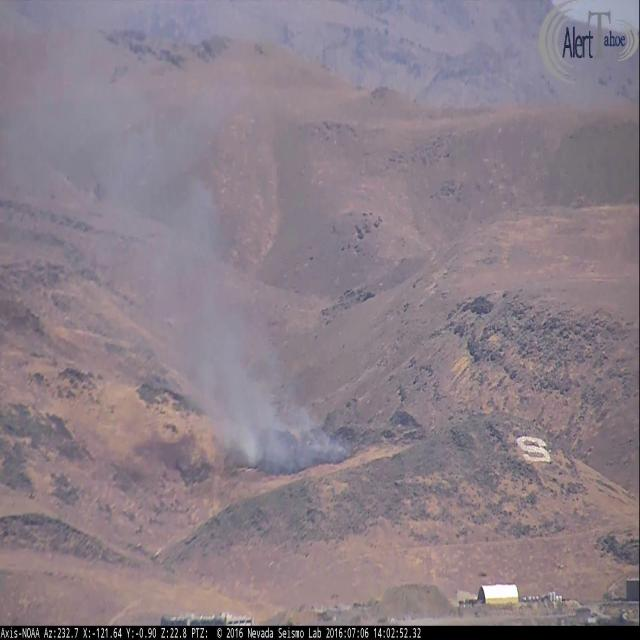smoke: (74, 42, 378, 476)
